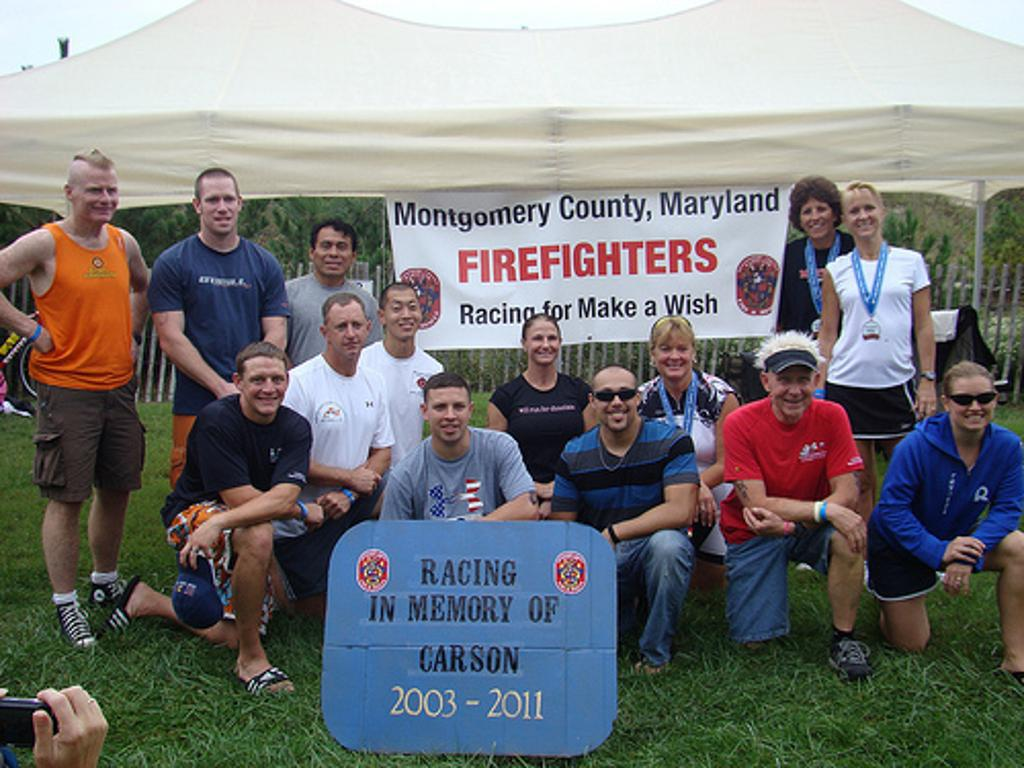face: (74, 176, 119, 223), (771, 366, 814, 415), (241, 368, 286, 413), (950, 384, 995, 429), (427, 395, 470, 442), (595, 383, 636, 429), (201, 186, 238, 234), (654, 337, 692, 379), (329, 313, 365, 355), (387, 296, 421, 337), (317, 235, 350, 276), (801, 198, 833, 238), (527, 329, 559, 365), (848, 199, 879, 236)
